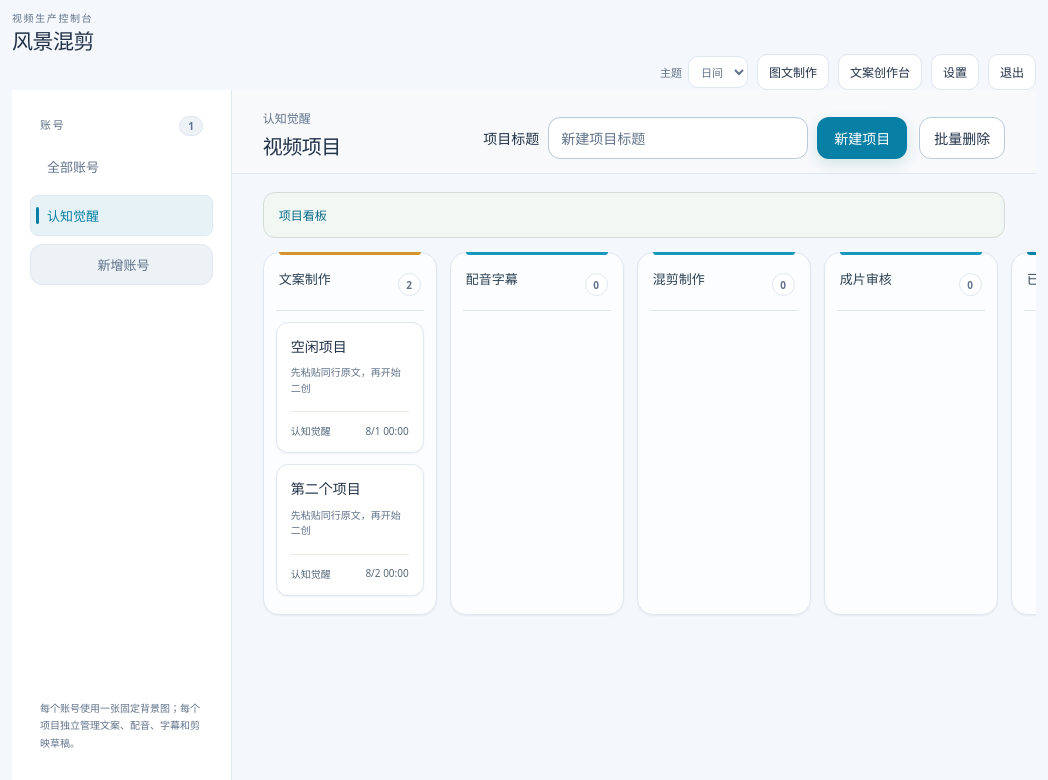
Test case: batch mode toggles cards instead of opening them
The width and height of the screenshot is (1048, 780).
Click the button "批量删除" at x=962, y=138, box [919,117,1005,159]
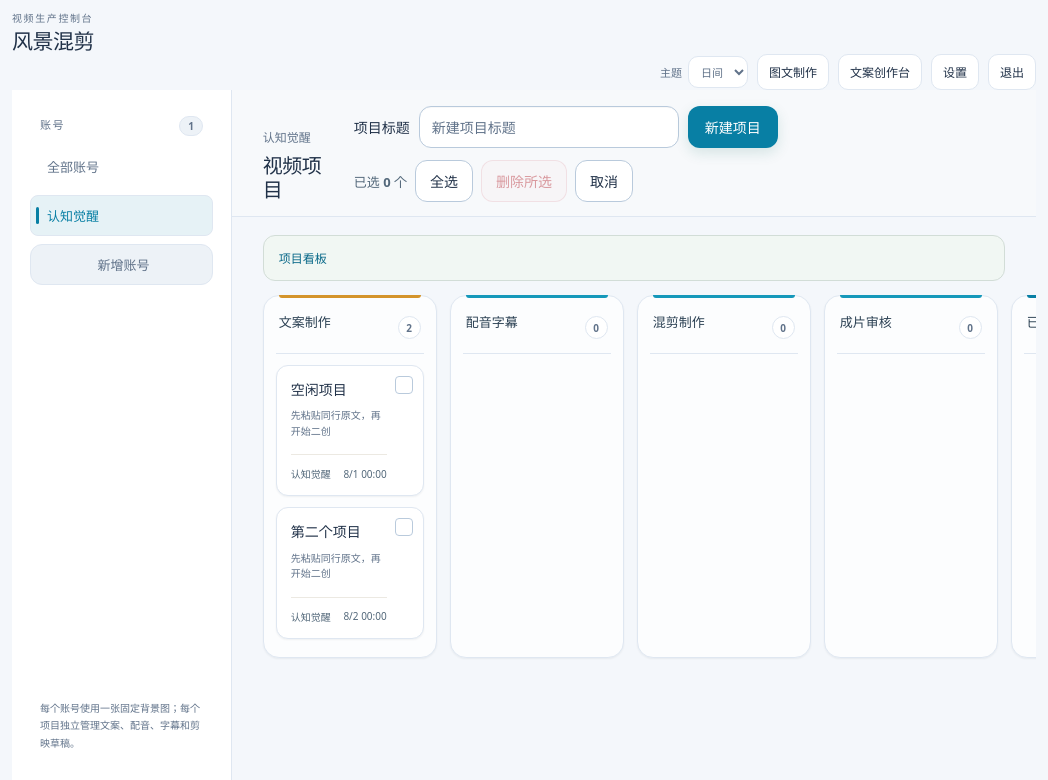
Click the button with aria-label "选择项目 空闲项目" at x=350, y=431, box [276,365,424,496]
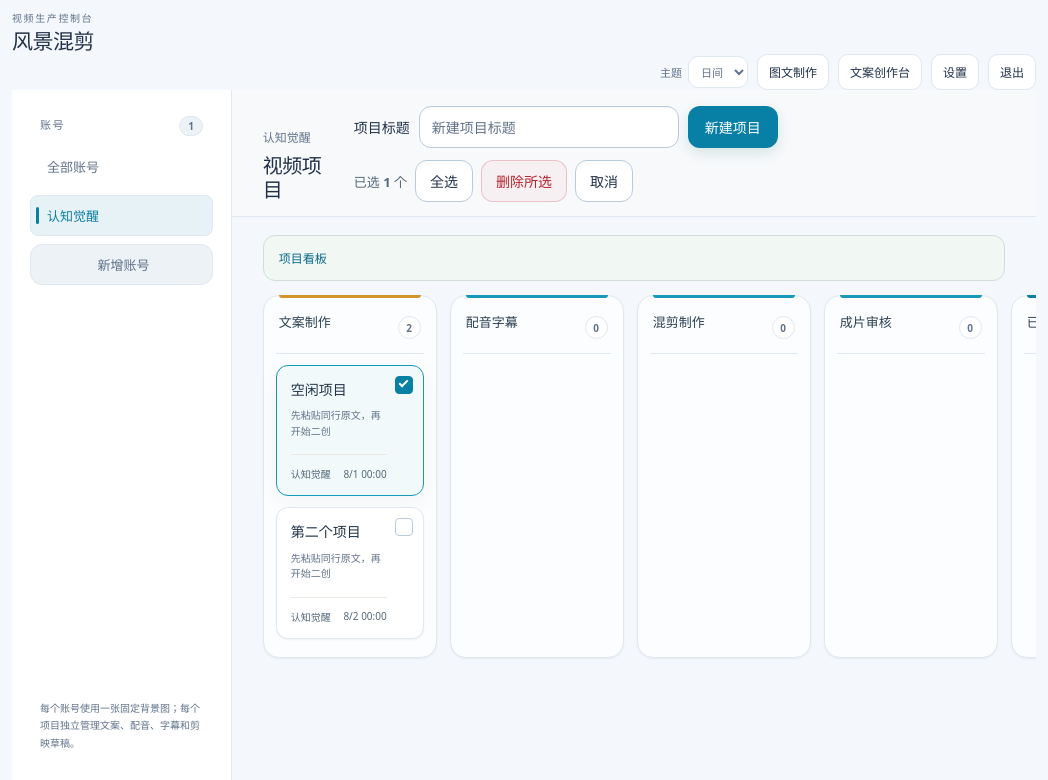
Expected: the text "已选 1 个" is shown, [354,172,407,191]
